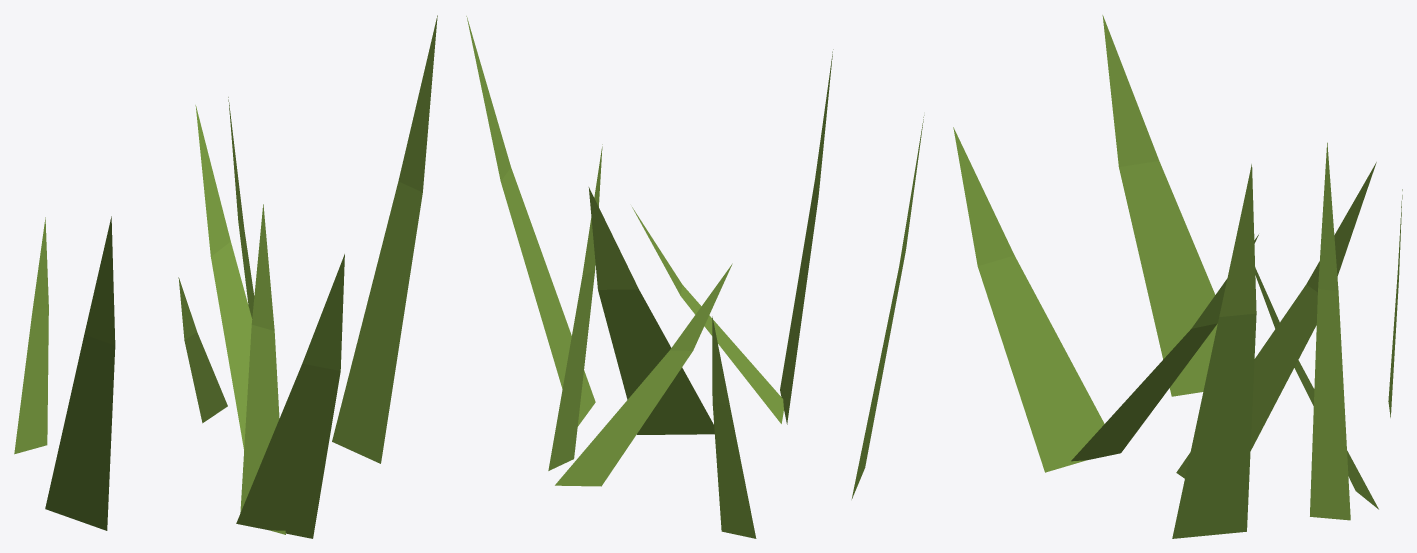
File: Grass_121.glb
3 renders of one model, left to right at view 1: azimuth 30°, elevation 25°; view 2: azimuth 150°, elevation 25°; view 3: azimuth 270°, elevation 25°, orthographic. The views are drawn at different scales.
Visible parts, largest first — view 1: Grass_121; view 2: Grass_121; view 3: Grass_121.
Part boxes in pixels (box(x1,y1,x2,y2)): Grass_121: box(14, 15, 437, 538); Grass_121: box(466, 16, 924, 538); Grass_121: box(953, 15, 1402, 538).
Size of the model in its own units: 0.4691 by 0.4512 by 0.4326.
